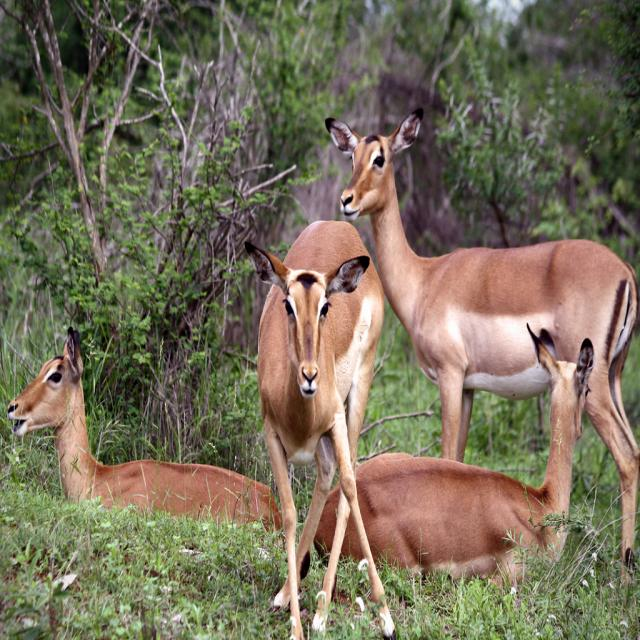Deer: (323, 100, 640, 578), (314, 324, 590, 588), (244, 222, 396, 640), (5, 326, 283, 532)
